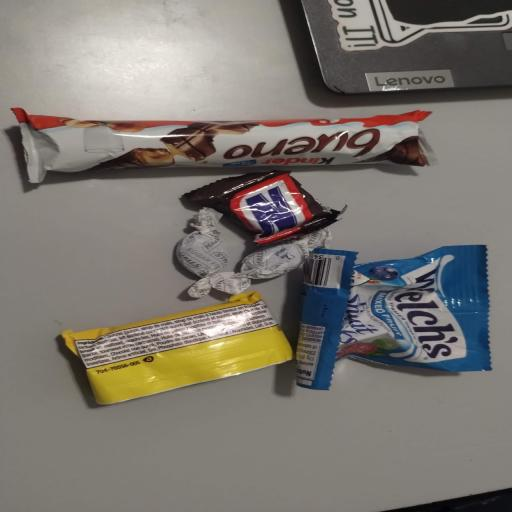chocolate: (13, 108, 433, 182), (298, 246, 490, 389), (62, 292, 292, 404), (184, 171, 341, 243), (189, 228, 331, 297), (176, 208, 228, 276)
granola: (298, 246, 490, 389)
